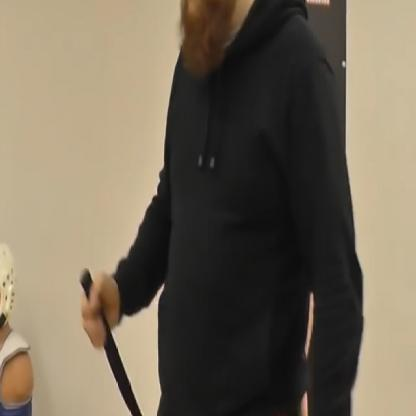knife: (76, 261, 146, 415)
